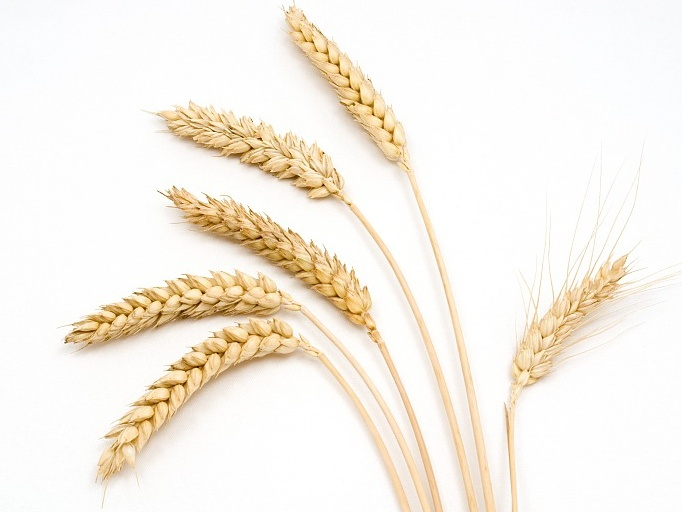wheat: (62, 320, 317, 489), (159, 188, 380, 331), (279, 2, 428, 202), (506, 225, 640, 425), (159, 99, 365, 217), (59, 270, 293, 347)
